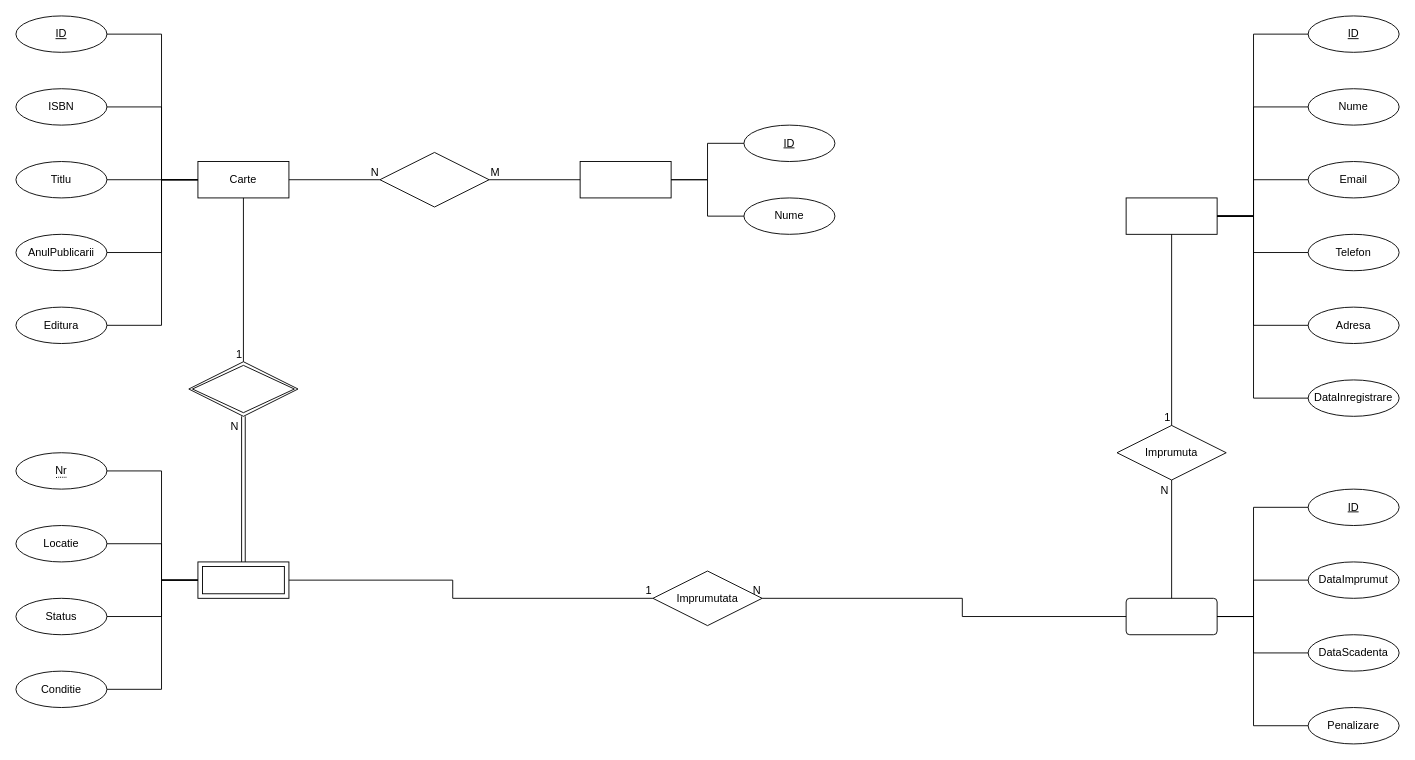
This 1415x760 diagram has some shape labels left out. Each missing label, with the centre of its shape:
Autor: the point at 625,179
Copie: the point at 243,579
Detine: the point at 243,388
Imprumut: the point at 1171,616
Membru: the point at 1171,215
Scris de: the point at 434,179
